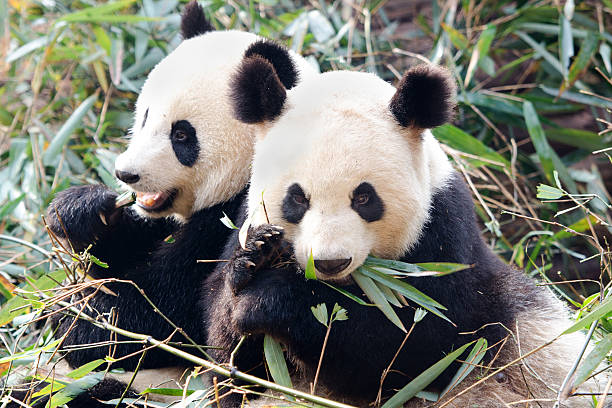panda: (226, 49, 472, 313), (76, 3, 289, 251)
